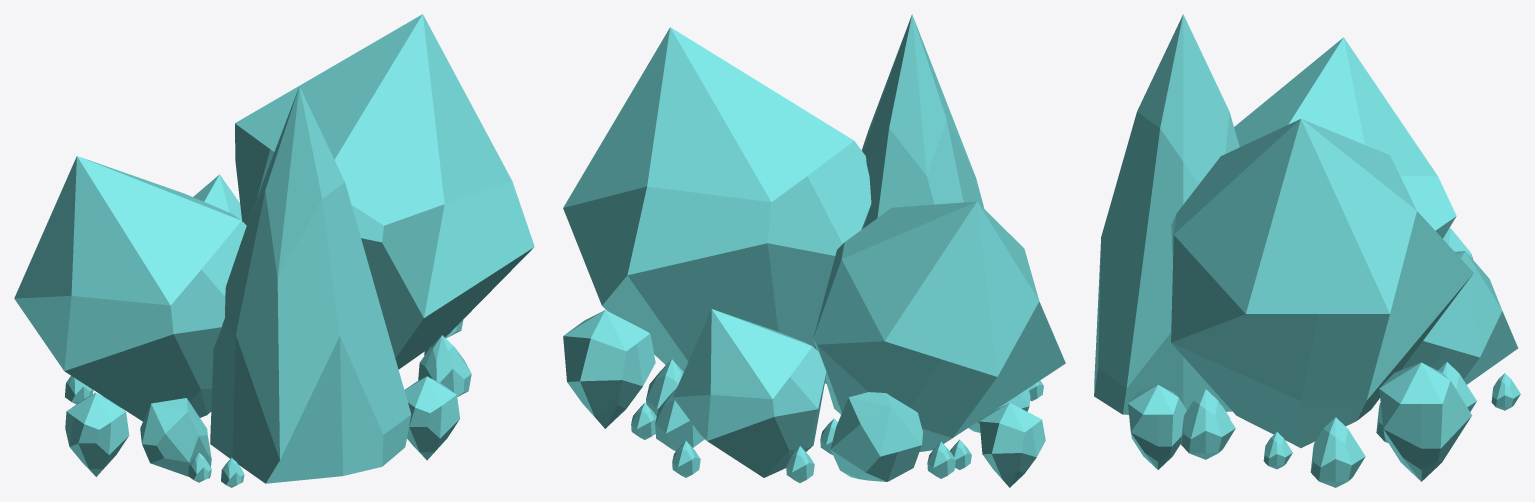
File: CrystalDeposit.fbx
3 renders of one model, left to right at view 1: azimuth 30°, elevation 25°; view 2: azimuth 150°, elevation 25°; view 3: azimuth 270°, elevation 25°, orthographic.
Parts seen in each view (by area): view 1: CrystalDeposit; view 2: CrystalDeposit; view 3: CrystalDeposit.
Boxes of the visible parts, bbox=[...] form: CrystalDeposit: bbox=[14, 14, 534, 487]; CrystalDeposit: bbox=[563, 14, 1065, 487]; CrystalDeposit: bbox=[1094, 14, 1520, 487].
Size of the model in its own units: 486 by 418 by 405.
